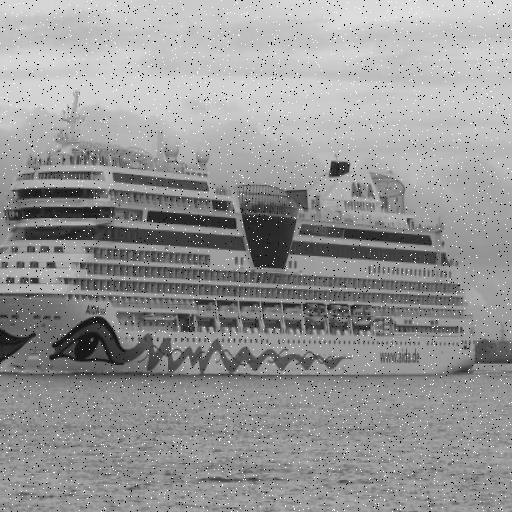cruises: (1, 89, 480, 382)
